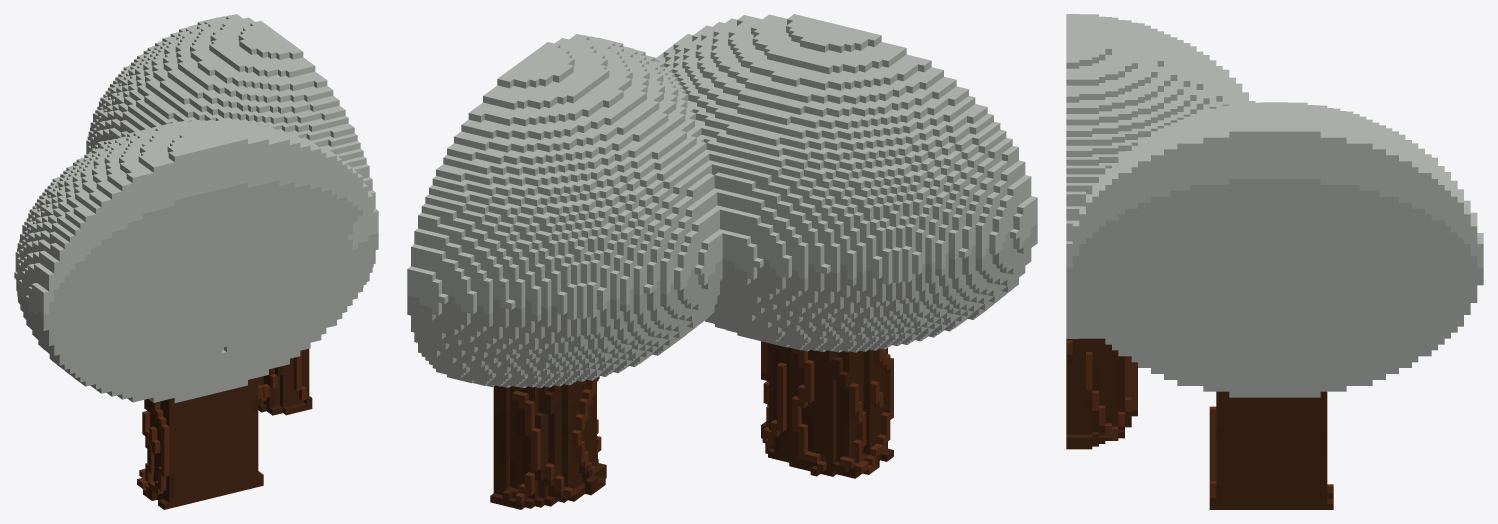
The model's file is TreeTile-0.obj.
3 renders of one model, left to right at view 1: azimuth 30°, elevation 25°; view 2: azimuth 150°, elevation 25°; view 3: azimuth 270°, elevation 25°, orthographic. The views are drawn at different scales.
Size of the model in its own units: 6.4 by 6.4 by 6.4.
1 material, 1 textured.
